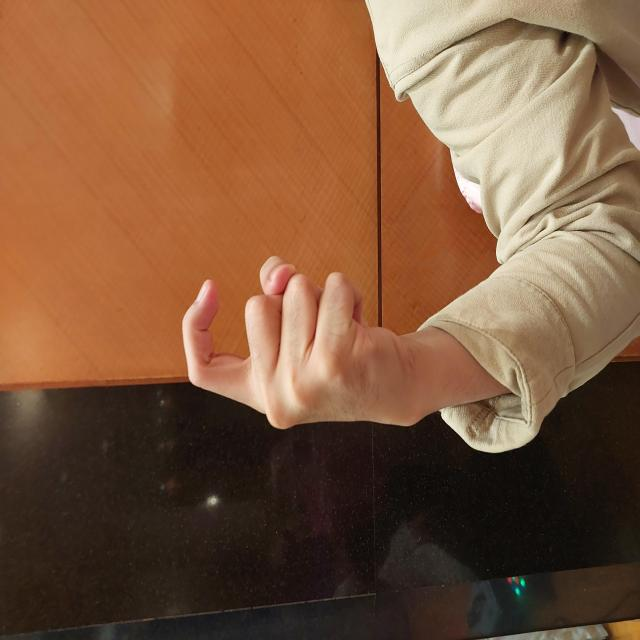X: (208, 178, 389, 418)
